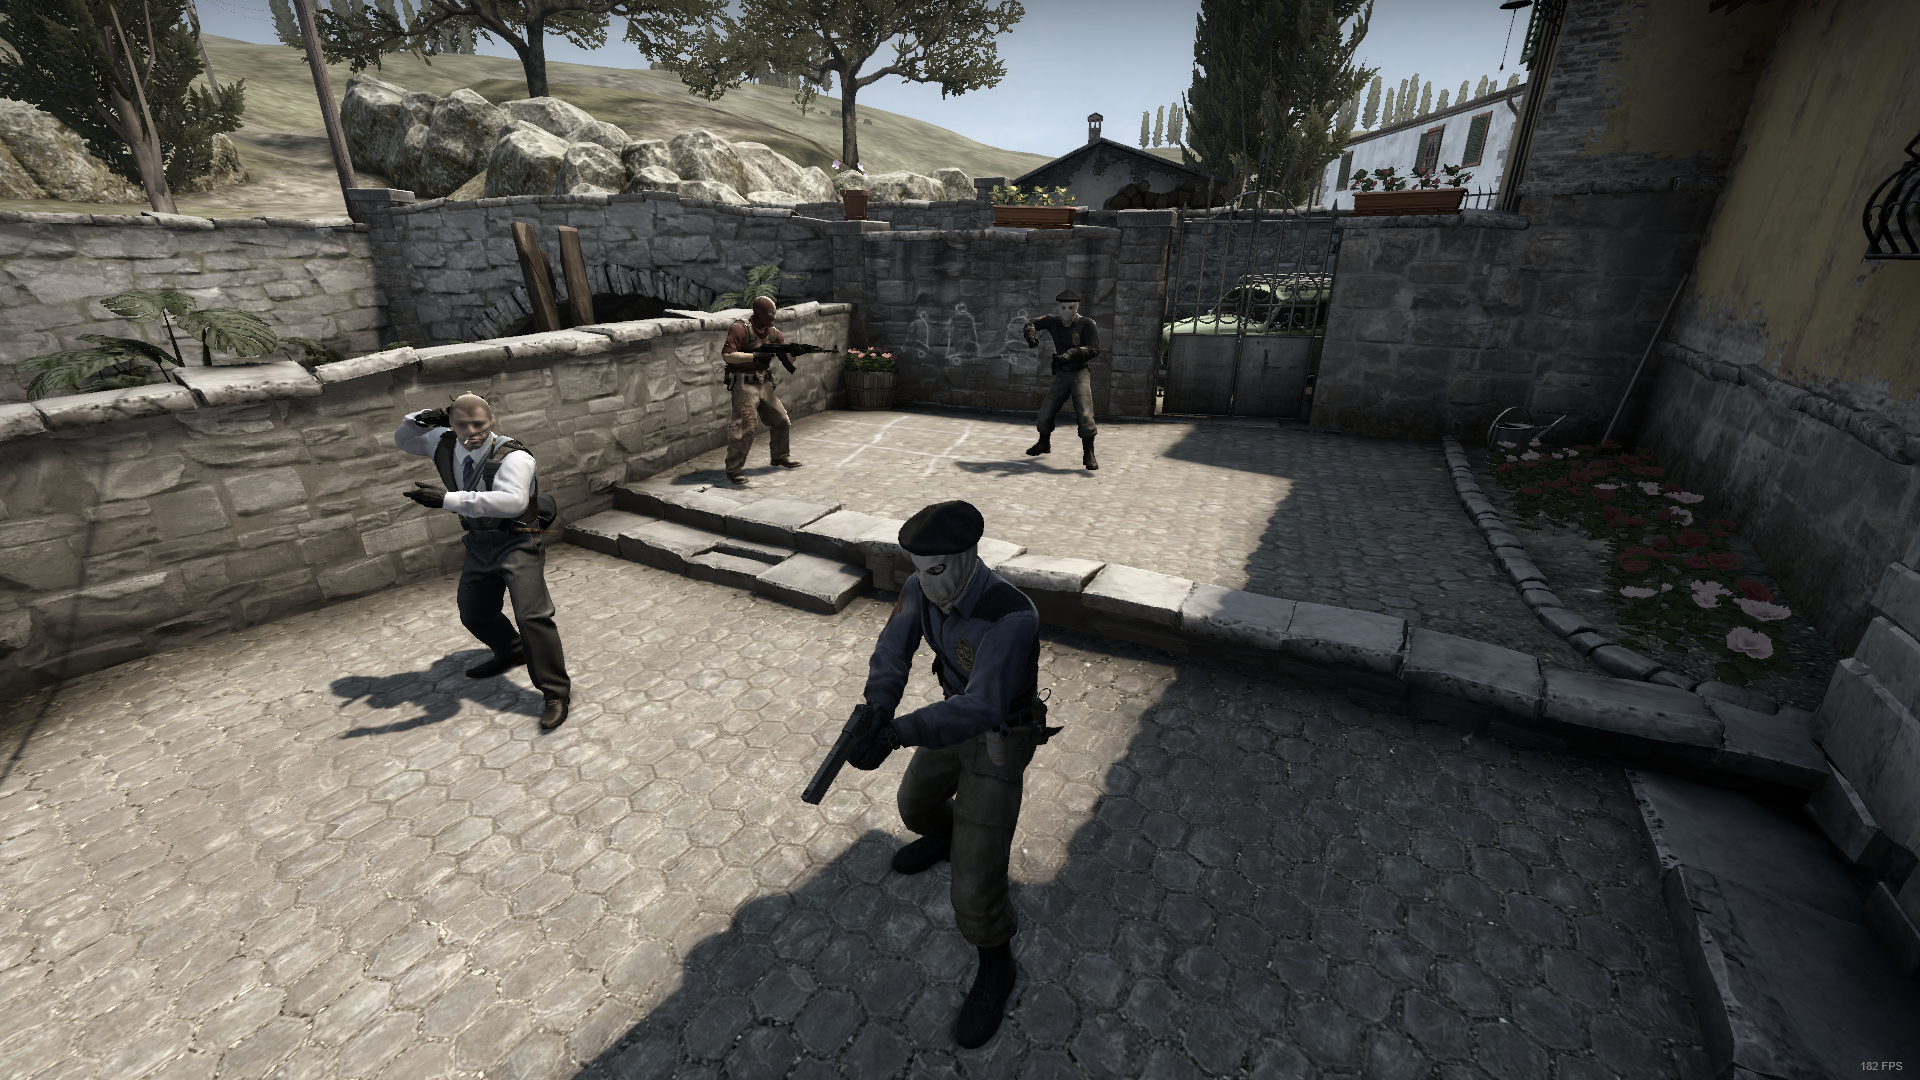t: (818, 498, 1083, 1069), (1025, 289, 1106, 475)
